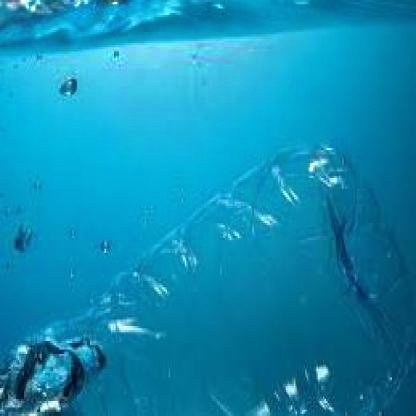pbottle: (1, 128, 416, 416)
